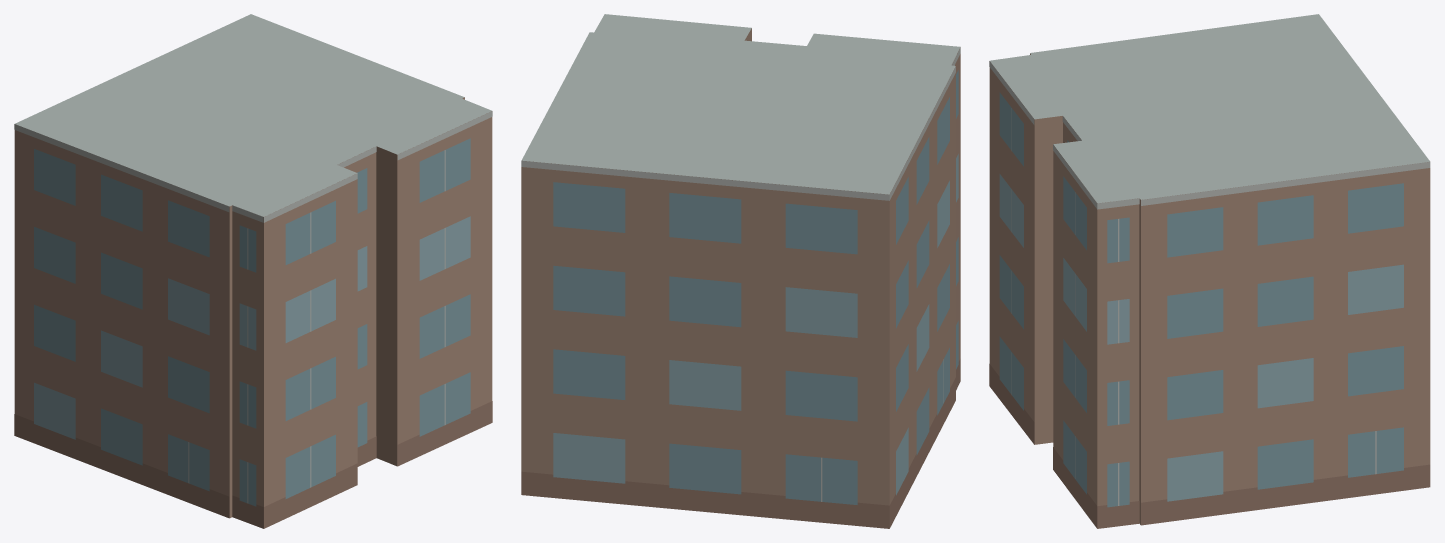
The model's file is survey-upis-32655018.glb.
The picture shows the model from 3 angles, left to right: view 1: azimuth 30°, elevation 25°; view 2: azimuth 150°, elevation 25°; view 3: azimuth 270°, elevation 25°; orthographic projection. The views are drawn at different scales.
Parts seen in each view (by area): view 1: survey-upis-32655018.tmp; view 2: survey-upis-32655018.tmp; view 3: survey-upis-32655018.tmp.
Part boxes in pixels (x1,y1,x2,y2): survey-upis-32655018.tmp: (14, 14, 492, 528); survey-upis-32655018.tmp: (521, 14, 960, 528); survey-upis-32655018.tmp: (989, 14, 1430, 528).
Bounding box in the file's own units: 16.11 × 12.9 × 15.85.
